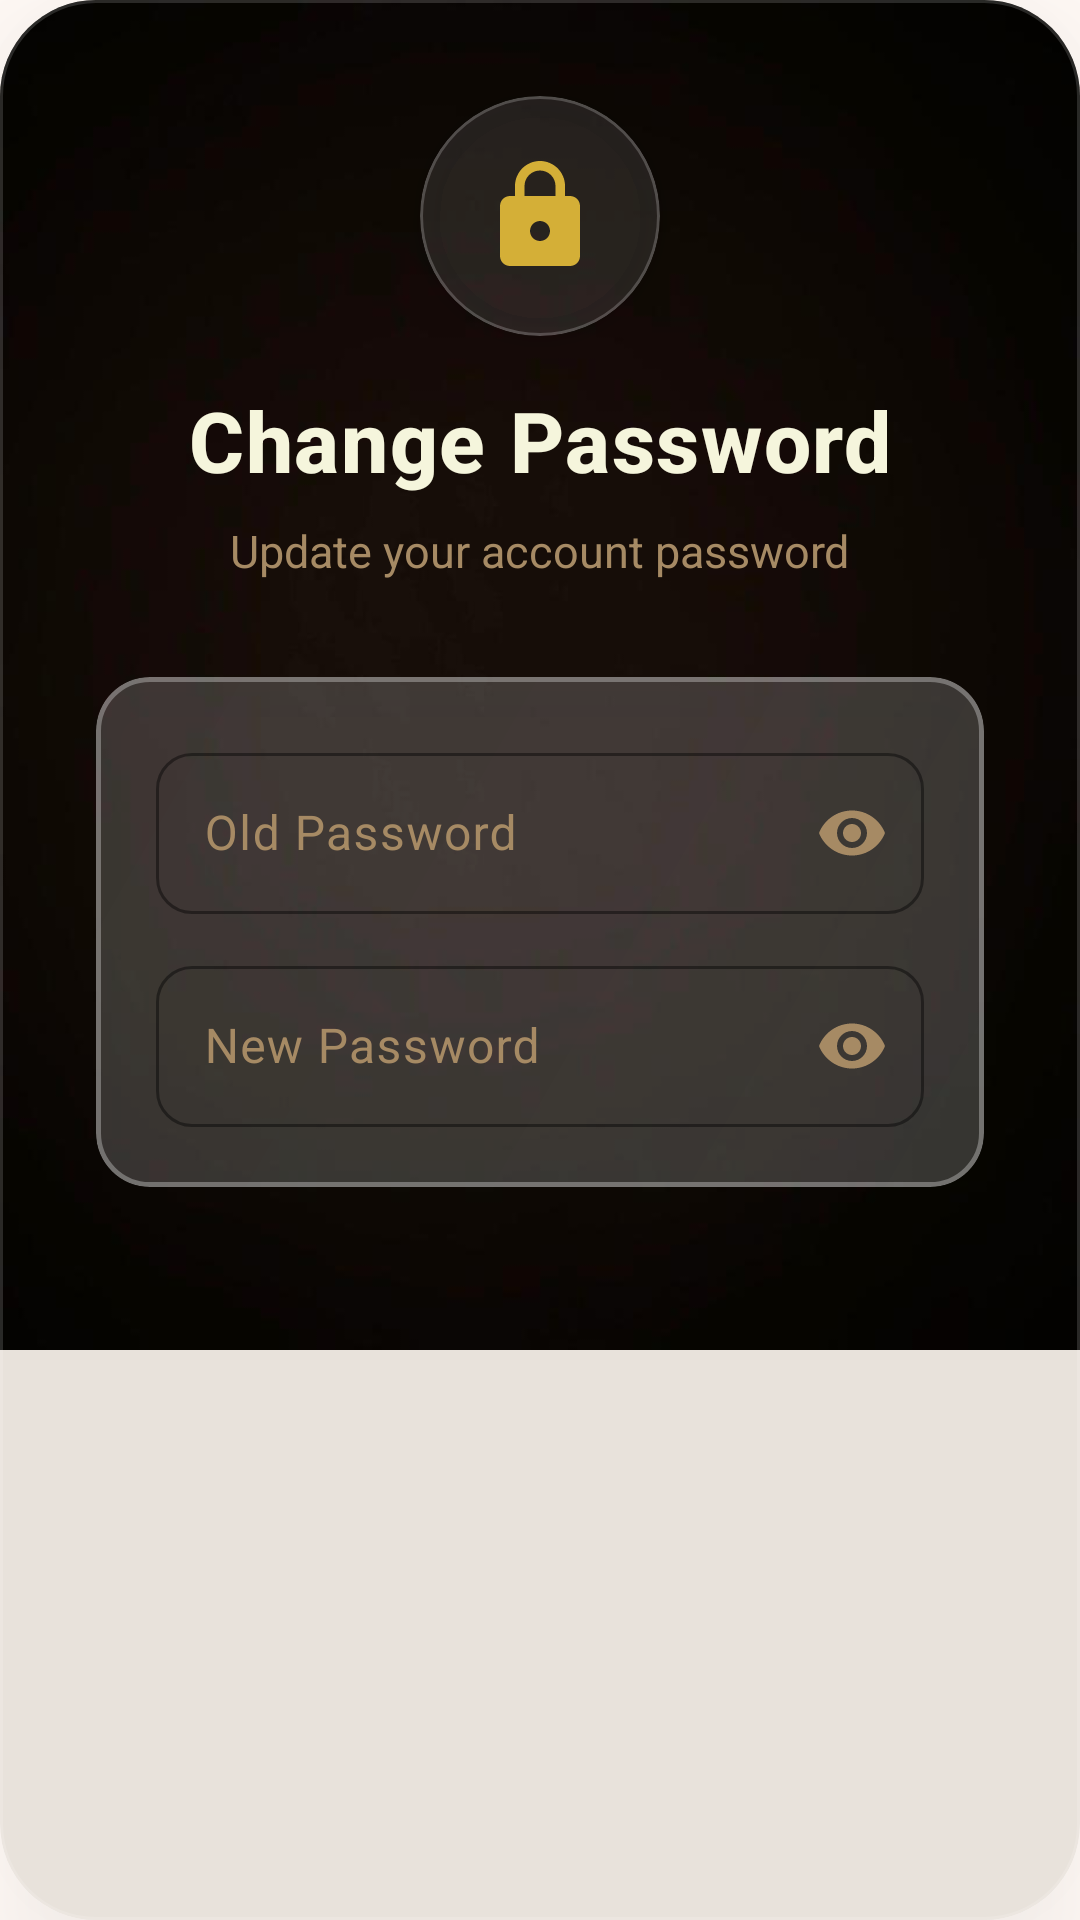

Screen size 1080 × 1920. Icon name, then its box in pixels as bbox=[x1, y1, x2, y2]:
lock: bbox=[500, 161, 580, 266]
